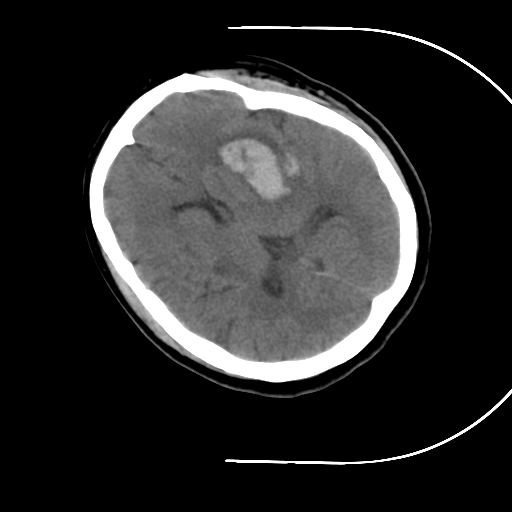a: (198, 122, 312, 217)
